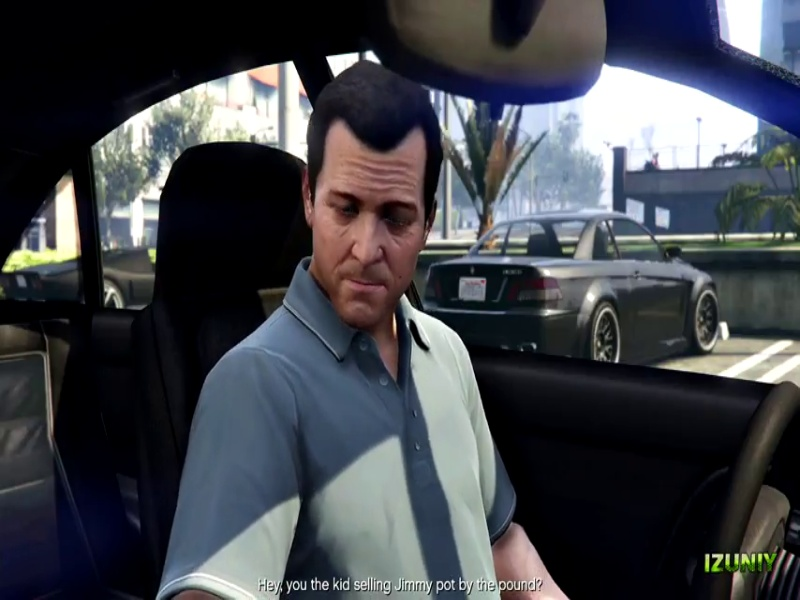human: (149, 80, 569, 600)
